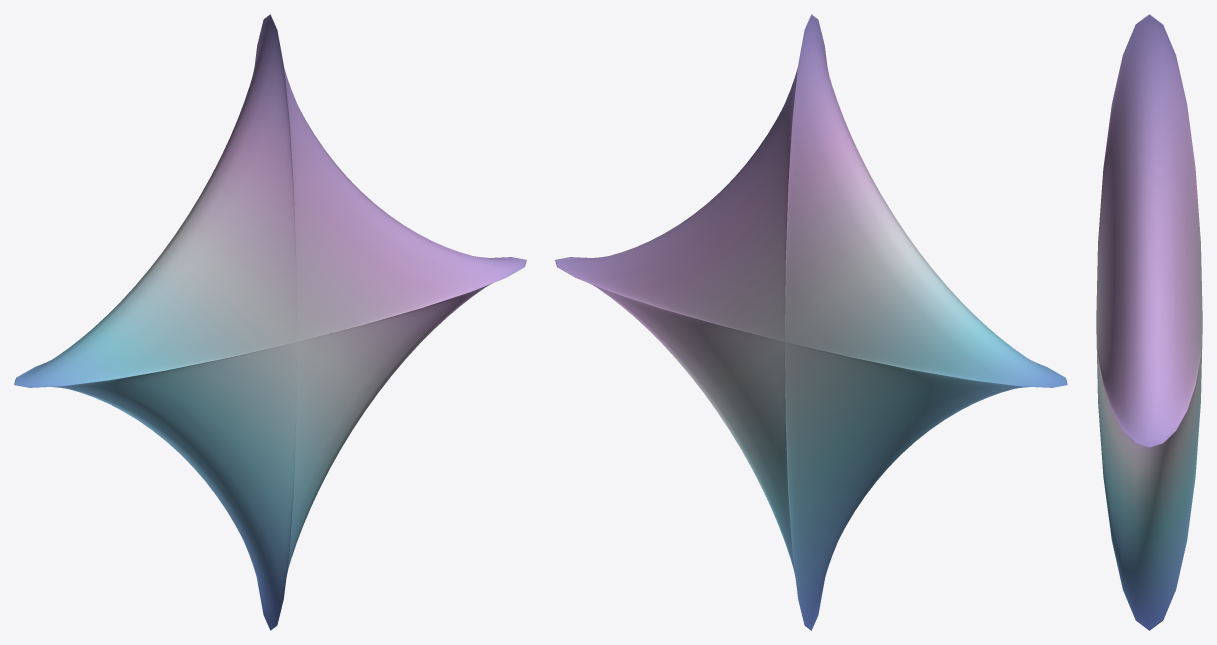
Rendered from agents-icon.glb.
3 renders of one model, left to right at view 1: azimuth 30°, elevation 25°; view 2: azimuth 150°, elevation 25°; view 3: azimuth 270°, elevation 25°, orthographic.
Parts seen in each view (by area): view 1: Brand / four-point prism.001; view 2: Brand / four-point prism.001; view 3: Brand / four-point prism.001.
Part boxes in pixels (left/top/right/bottom): Brand / four-point prism.001: left=14, top=14, right=526, bottom=630; Brand / four-point prism.001: left=555, top=14, right=1067, bottom=630; Brand / four-point prism.001: left=1096, top=14, right=1202, bottom=630.
Bounding box in the file's own units: 1.8 × 2.07 × 0.324.
